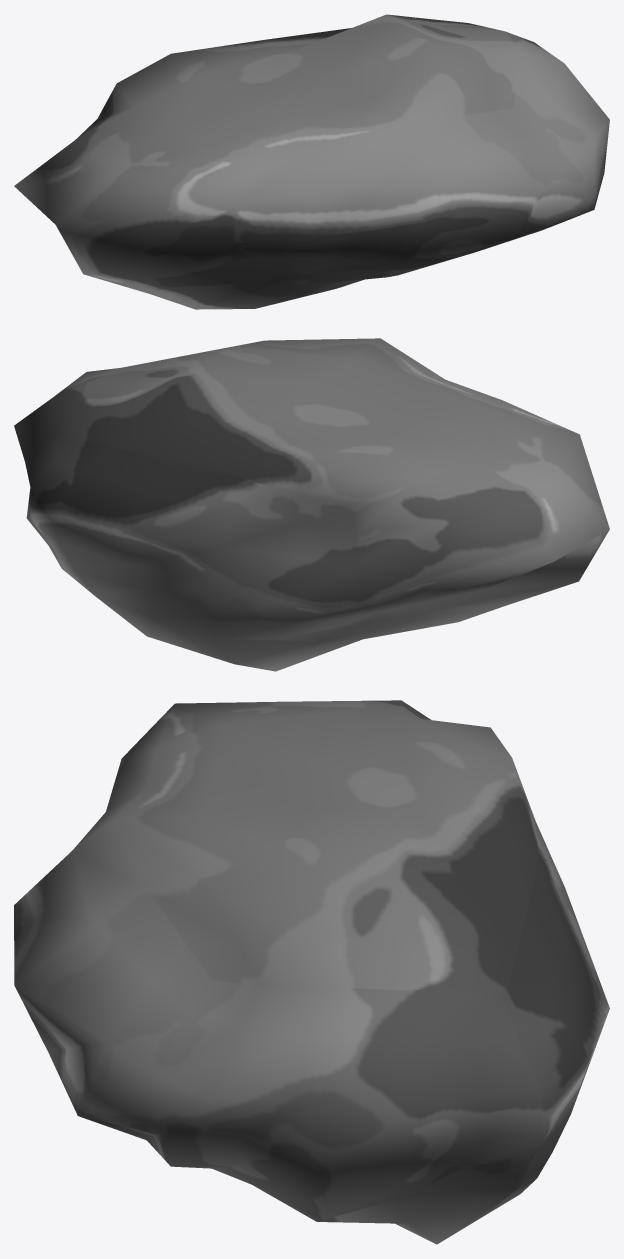
The model's file is Rock_Mesh_2.FBX.
3 views of the same model, one above another, from view 1: azimuth 30°, elevation 25°; view 2: azimuth 150°, elevation 25°; view 3: azimuth 270°, elevation 25° (orthographic). The views are drawn at different scales.
Visible parts, largest first — view 1: CartoonRock_2; view 2: CartoonRock_2; view 3: CartoonRock_2.
Part boxes in pixels (left/top/right/bottom): CartoonRock_2: left=14, top=14, right=609, bottom=309; CartoonRock_2: left=14, top=338, right=609, bottom=671; CartoonRock_2: left=14, top=700, right=609, bottom=1244.
Bounding box in the file's own units: 6.09 × 2.8 × 3.96.
